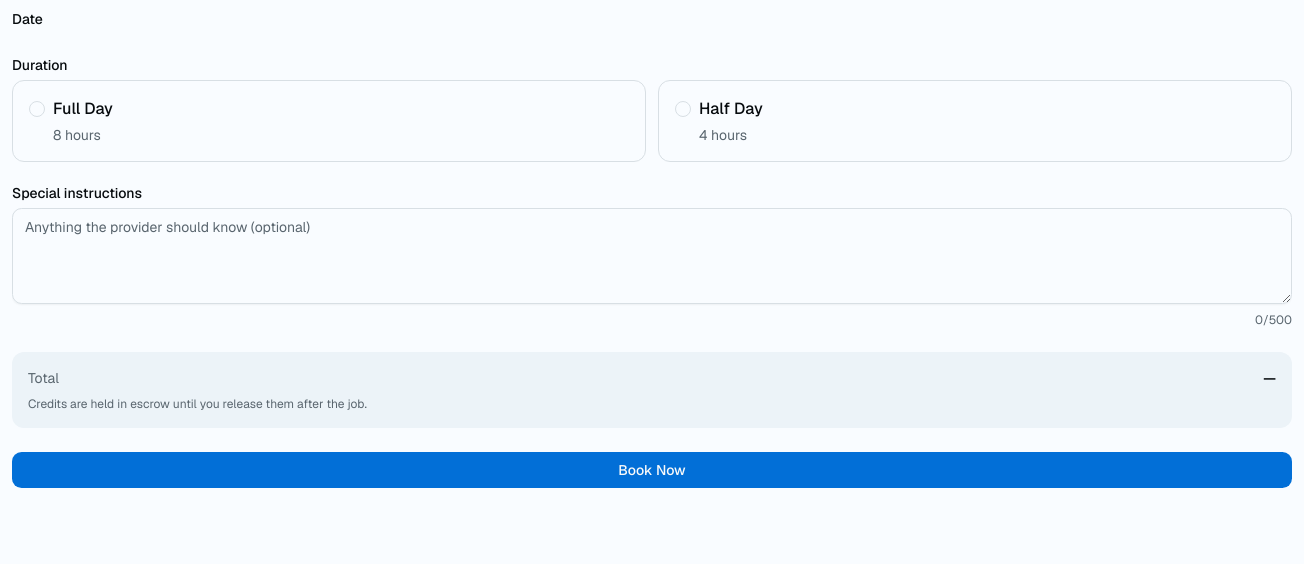
Test: BookingForm › shows validation errors when submitting empty
This screenshot has width=1304, height=564.
Step 1. Click the button "Book Now" → x=652, y=470, box [12, 452, 1292, 488]
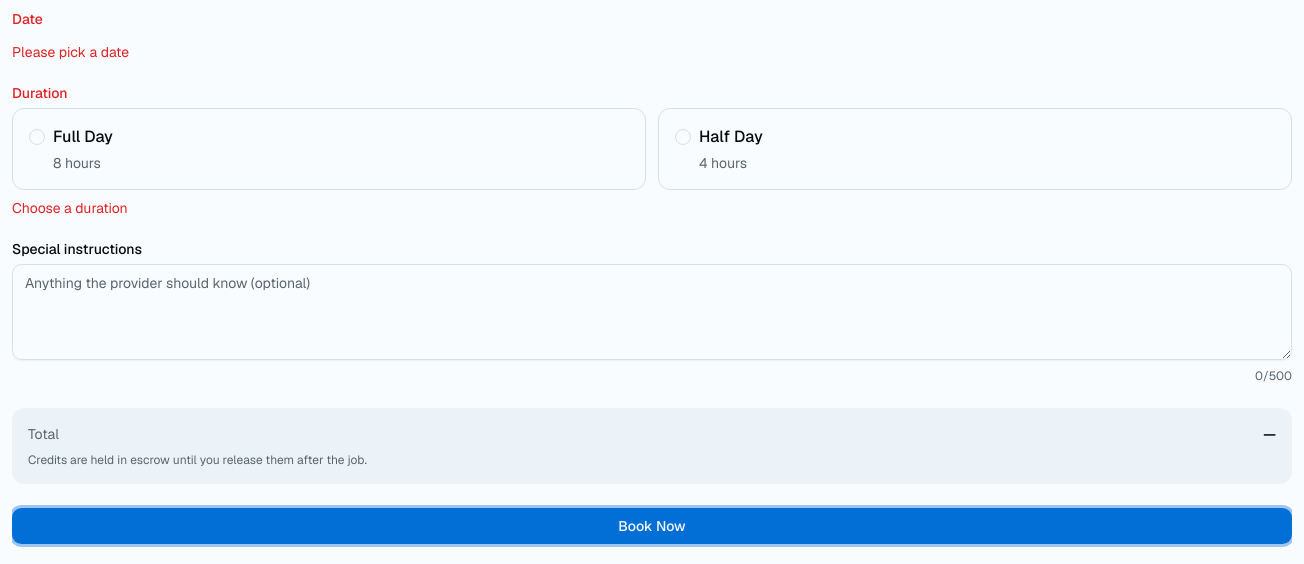
Check: the text "Please pick a date" is shown, box [12, 43, 129, 61]
Check: the text "Choose a duration" is shown, box [12, 199, 128, 217]
